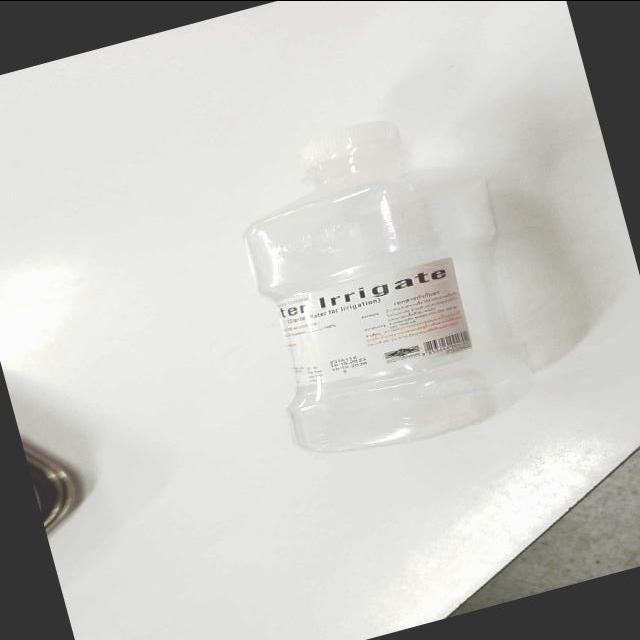General: (1, 3, 637, 639), (240, 118, 586, 456)
